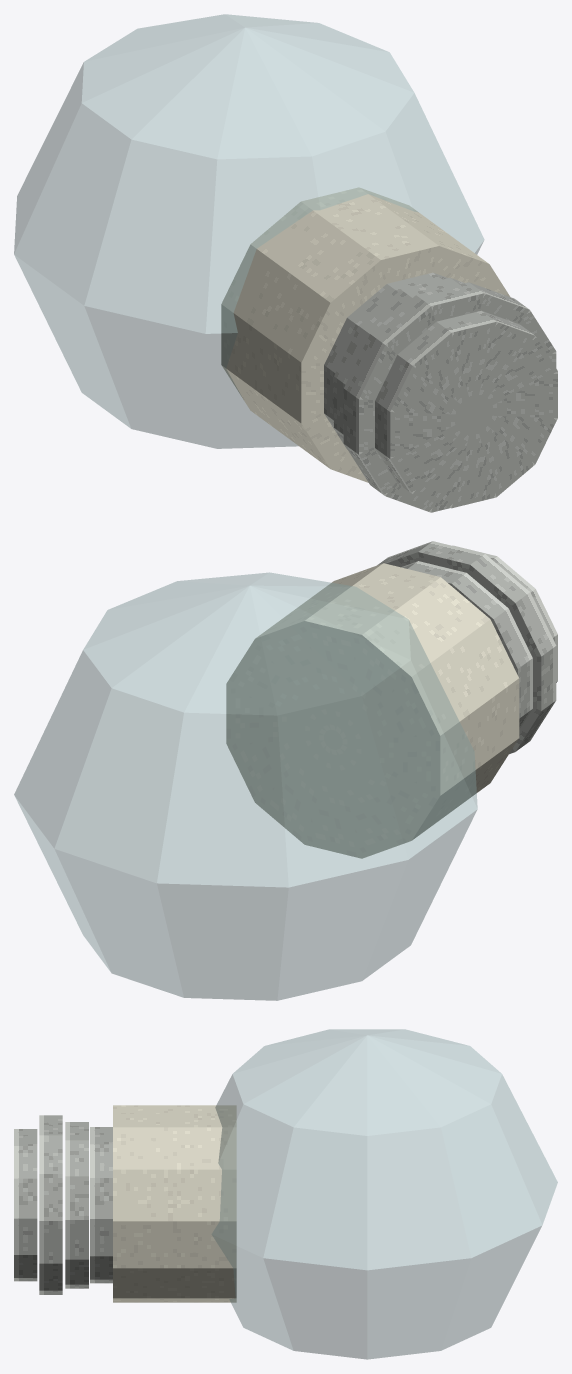
File: light_bulb.glb
3 views of the same model, one above another, from view 1: azimuth 30°, elevation 25°; view 2: azimuth 150°, elevation 25°; view 3: azimuth 270°, elevation 25° (orthographic). The views are drawn at different scales.
Parts seen in each view (by area): view 1: block_glass bulb, block_threaded contact (×4), block_white bulb base; view 2: block_glass bulb, block_white bulb base, block_threaded contact (×3); view 3: block_glass bulb, block_white bulb base, block_threaded contact (×4).
Part boxes in pixels (x1,y1,x2,y2): block_glass bulb: [14, 14, 484, 448]; block_threaded contact (×4): [324, 272, 557, 512]; block_white bulb base: [221, 187, 510, 482]; block_glass bulb: [14, 572, 477, 1000]; block_white bulb base: [226, 563, 519, 858]; block_threaded contact (×3): [377, 541, 557, 754]; block_glass bulb: [211, 1029, 557, 1359]; block_white bulb base: [113, 1105, 236, 1302]; block_threaded contact (×4): [14, 1115, 112, 1294].
Size of the model in its own units: 0.0777 by 0.0759 by 0.1184.
2 materials, 2 textured.
